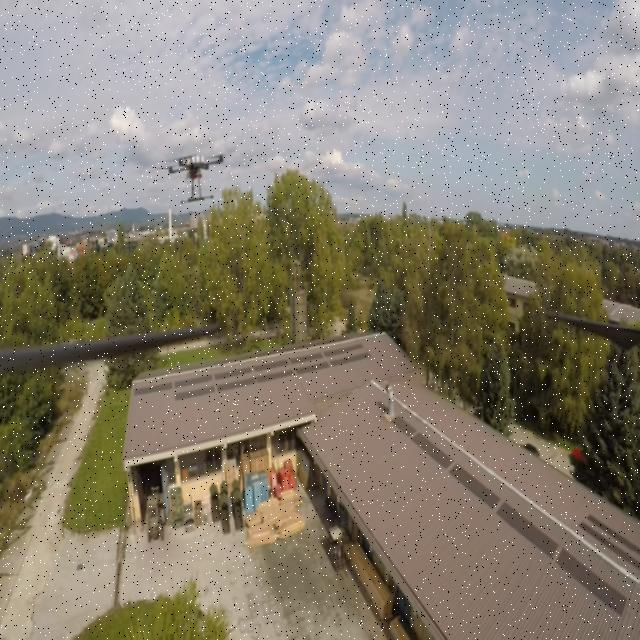UAV: (154, 147, 234, 206)
